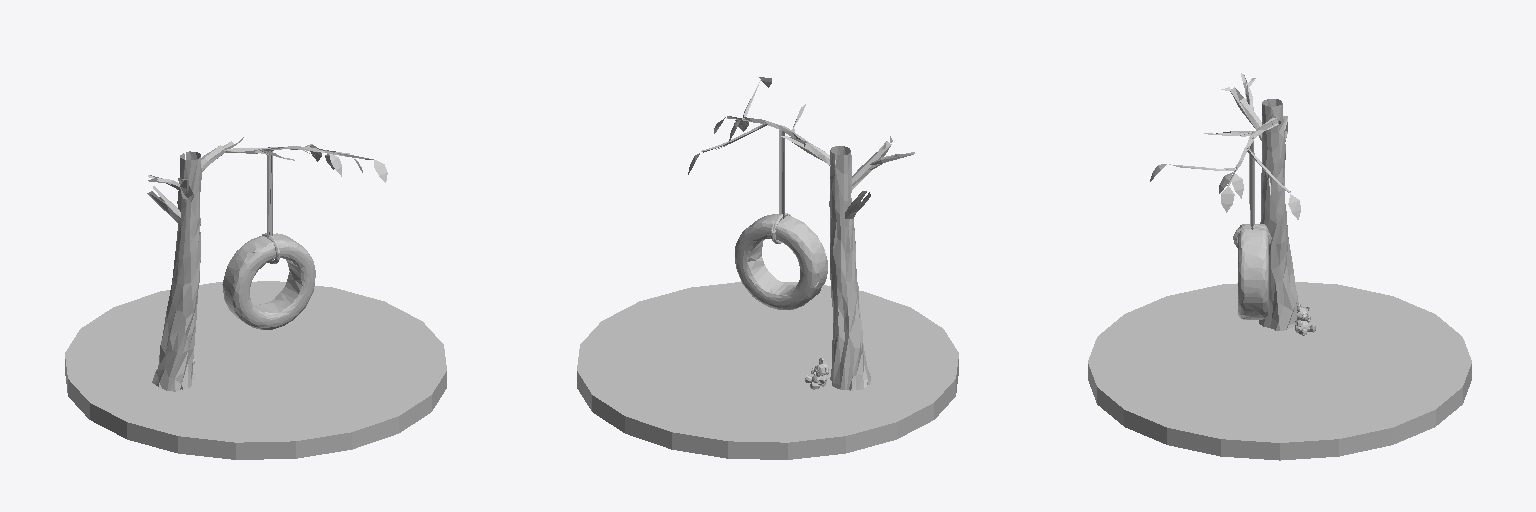
The model's file is 1.3 tire swing.obj.
3 views of the same model, side by side, from view 1: azimuth 30°, elevation 25°; view 2: azimuth 150°, elevation 25°; view 3: azimuth 270°, elevation 25° (orthographic).
Parts seen in each view (by area): view 1: pCylinder1, polySurface9, Tire_Base01; view 2: pCylinder1, polySurface9, Tire_Base01; view 3: pCylinder1, polySurface9, Tire_Base01.
Part boxes in pixels (left/top/right/bottom): pCylinder1: left=65, top=281, right=446, bottom=459; polySurface9: left=147, top=137, right=335, bottom=391; Tire_Base01: left=222, top=233, right=315, bottom=329; pCylinder1: left=577, top=282, right=958, bottom=459; polySurface9: left=701, top=104, right=914, bottom=390; Tire_Base01: left=735, top=214, right=827, bottom=309; pCylinder1: left=1088, top=282, right=1471, bottom=460; polySurface9: left=1204, top=73, right=1298, bottom=330; Tire_Base01: left=1238, top=224, right=1268, bottom=319.
Size of the model in its own units: 630 by 446 by 630.